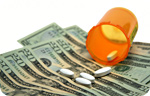pill bottle: (87, 7, 138, 66)
